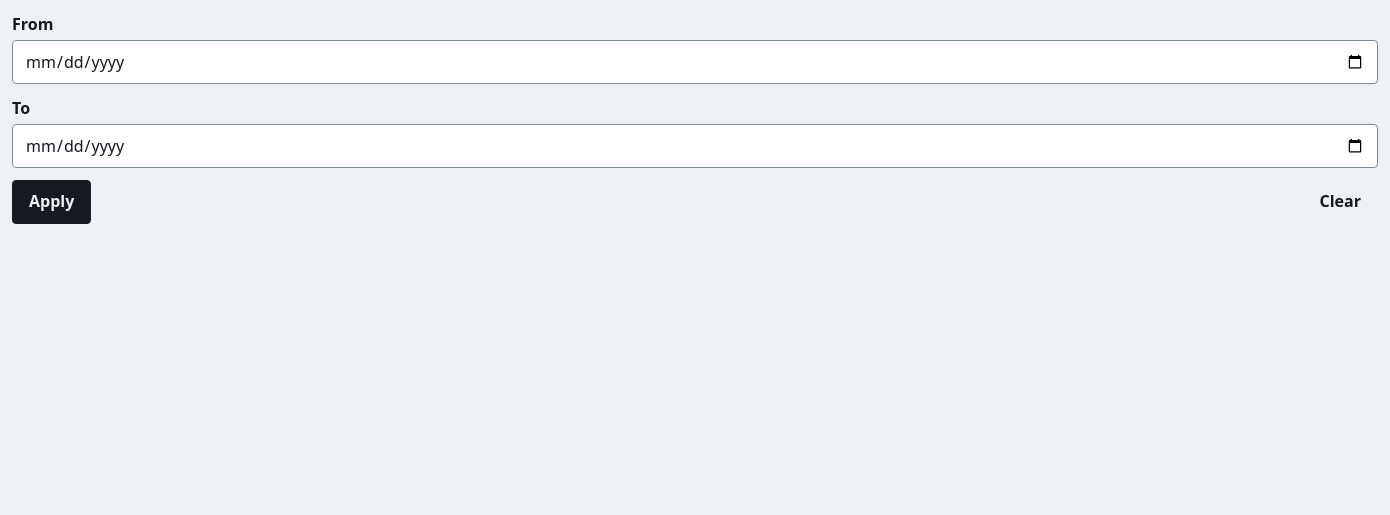
Test: ignores a stale response after the filter changes
Click the button "Clear" at [1340, 202], box x1=1302 y1=180 x2=1378 y2=224
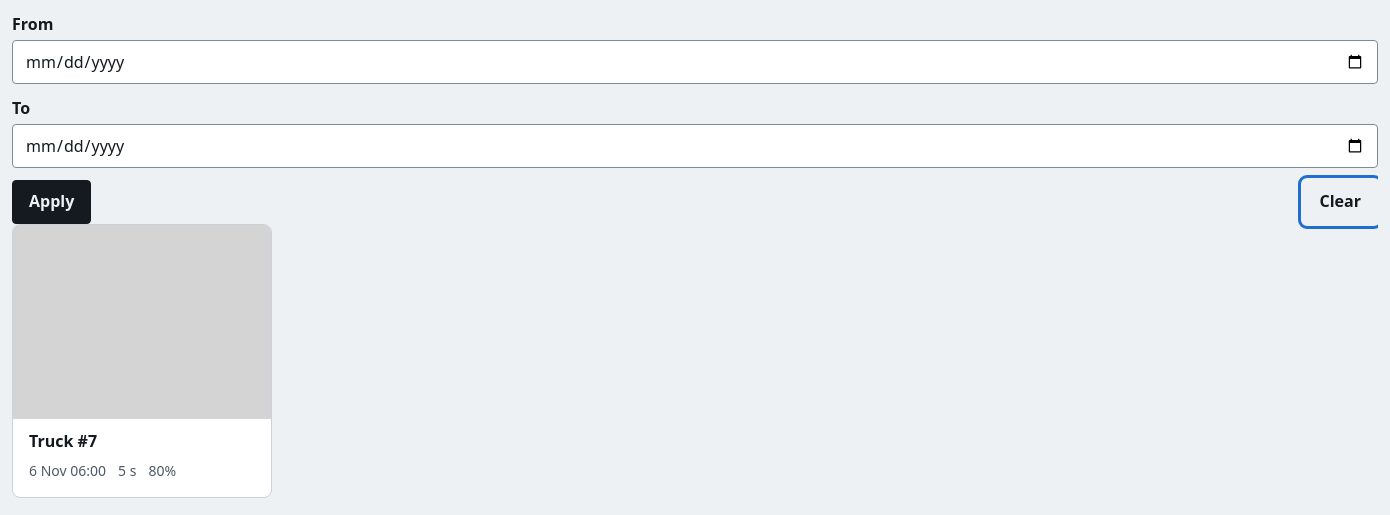
Check: the text "Truck #7" is shown, box x1=29 y1=430 x2=97 y2=452
